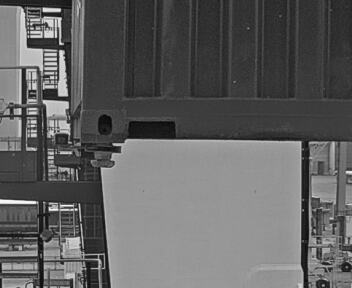twist_lock_1: (76, 135, 126, 175)
